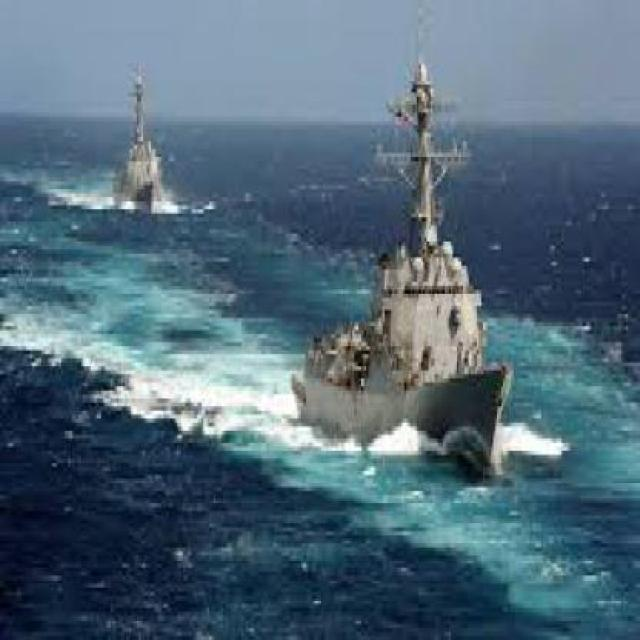warship2: (246, 53, 554, 513), (100, 61, 180, 230)
